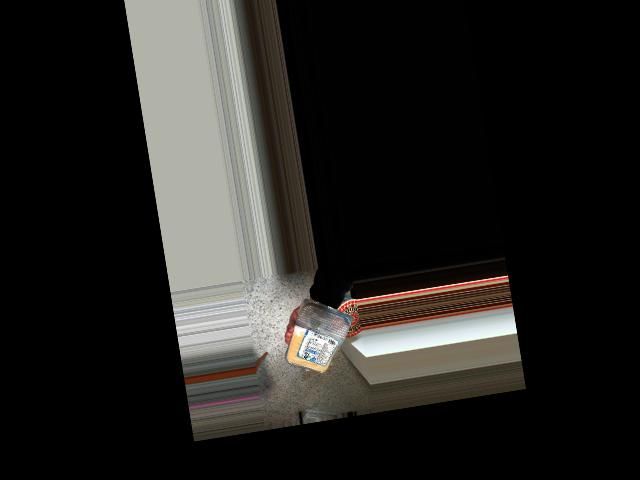cheese: (285, 297, 359, 382)
